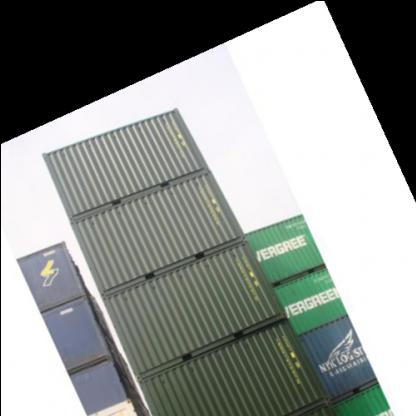Damage: (135, 190, 153, 212), (151, 366, 170, 386), (82, 206, 95, 230), (172, 263, 186, 284)
